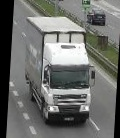truck: (23, 9, 99, 128)
